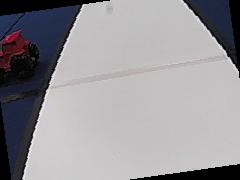Tracktor: (0, 27, 39, 78)
